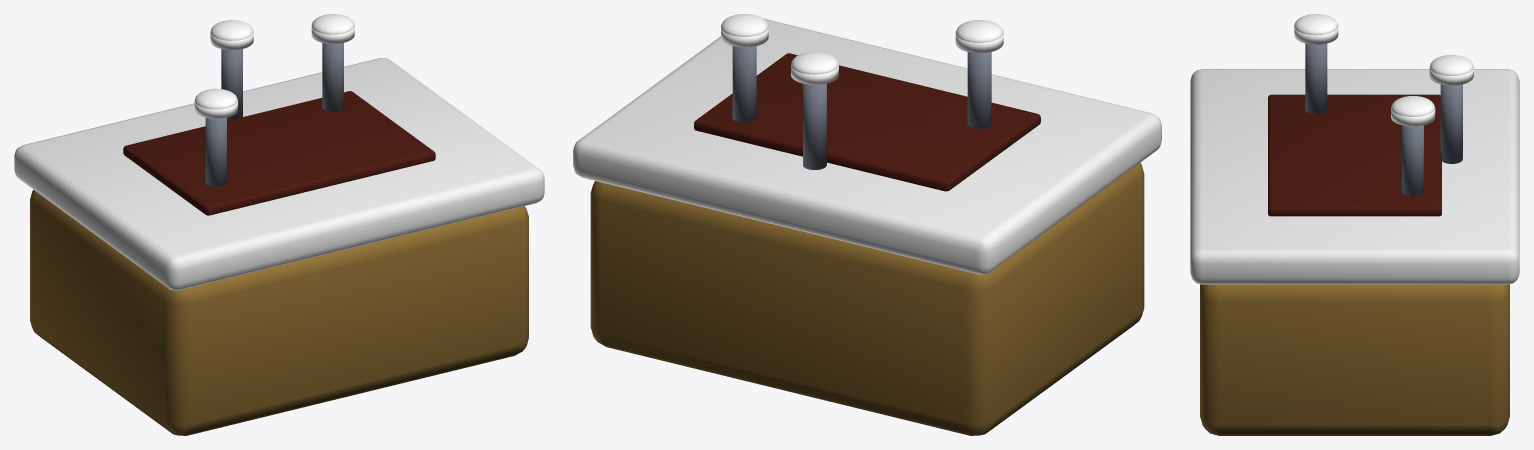
The model's file is nail-box.obj.
3 renders of one model, left to right at view 1: azimuth 30°, elevation 25°; view 2: azimuth 150°, elevation 25°; view 3: azimuth 270°, elevation 25°, orthographic. The views are drawn at different scales.
Parts seen in each view (by area): view 1: nail-box; view 2: nail-box; view 3: nail-box.
Boxes of the visible parts, bbox=[...] form: nail-box: bbox=[14, 14, 544, 435]; nail-box: bbox=[573, 14, 1161, 435]; nail-box: bbox=[1190, 14, 1519, 435].
Bounding box in the file's own units: 0.23 × 0.167 × 0.17.
